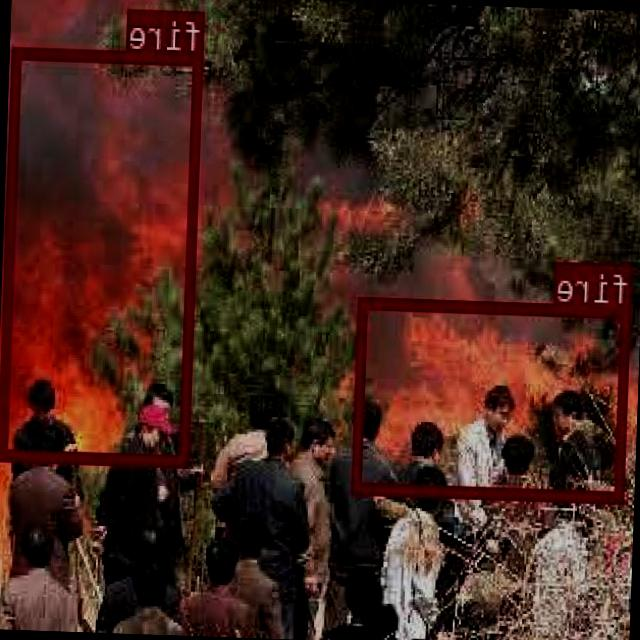fire: (1, 44, 204, 463), (354, 296, 632, 502)
